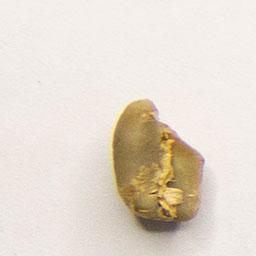defect: (108, 95, 208, 228)
